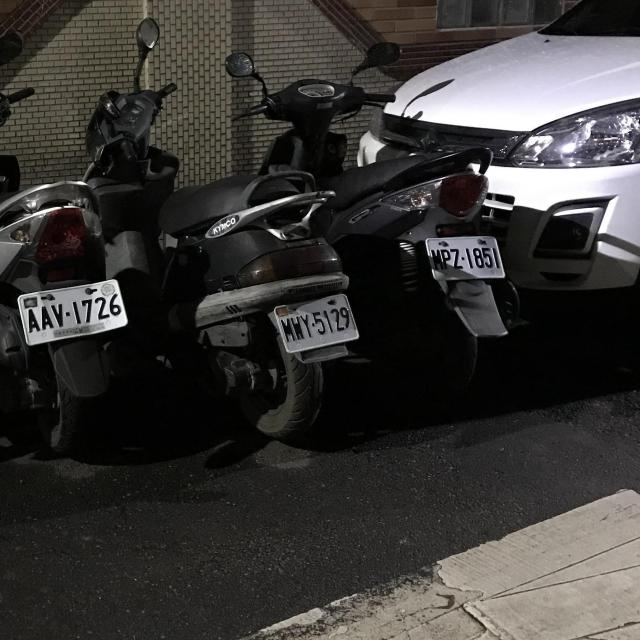W: (15, 278, 132, 347), (270, 286, 365, 355), (420, 226, 508, 287)
